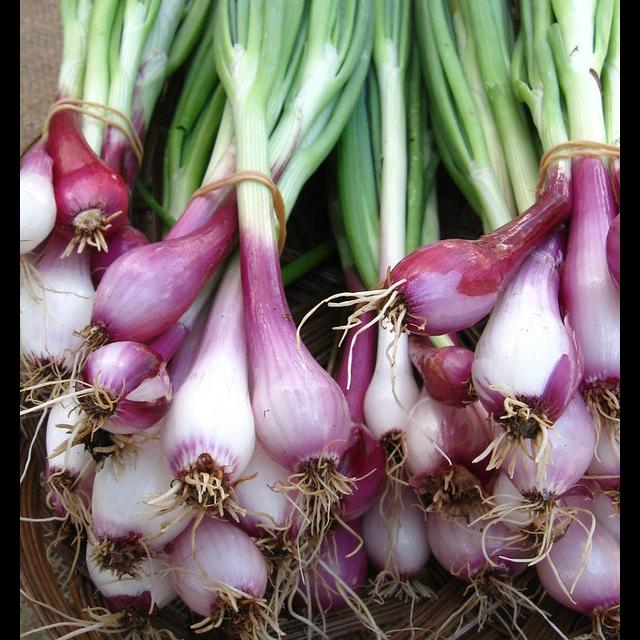green_onion: (20, 0, 427, 600), (215, 0, 373, 472)
